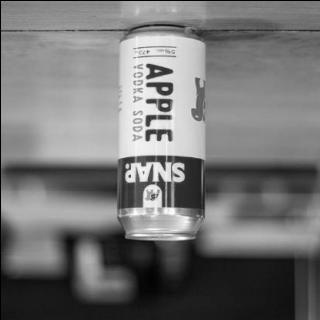alumunium_can: (116, 23, 206, 242)
